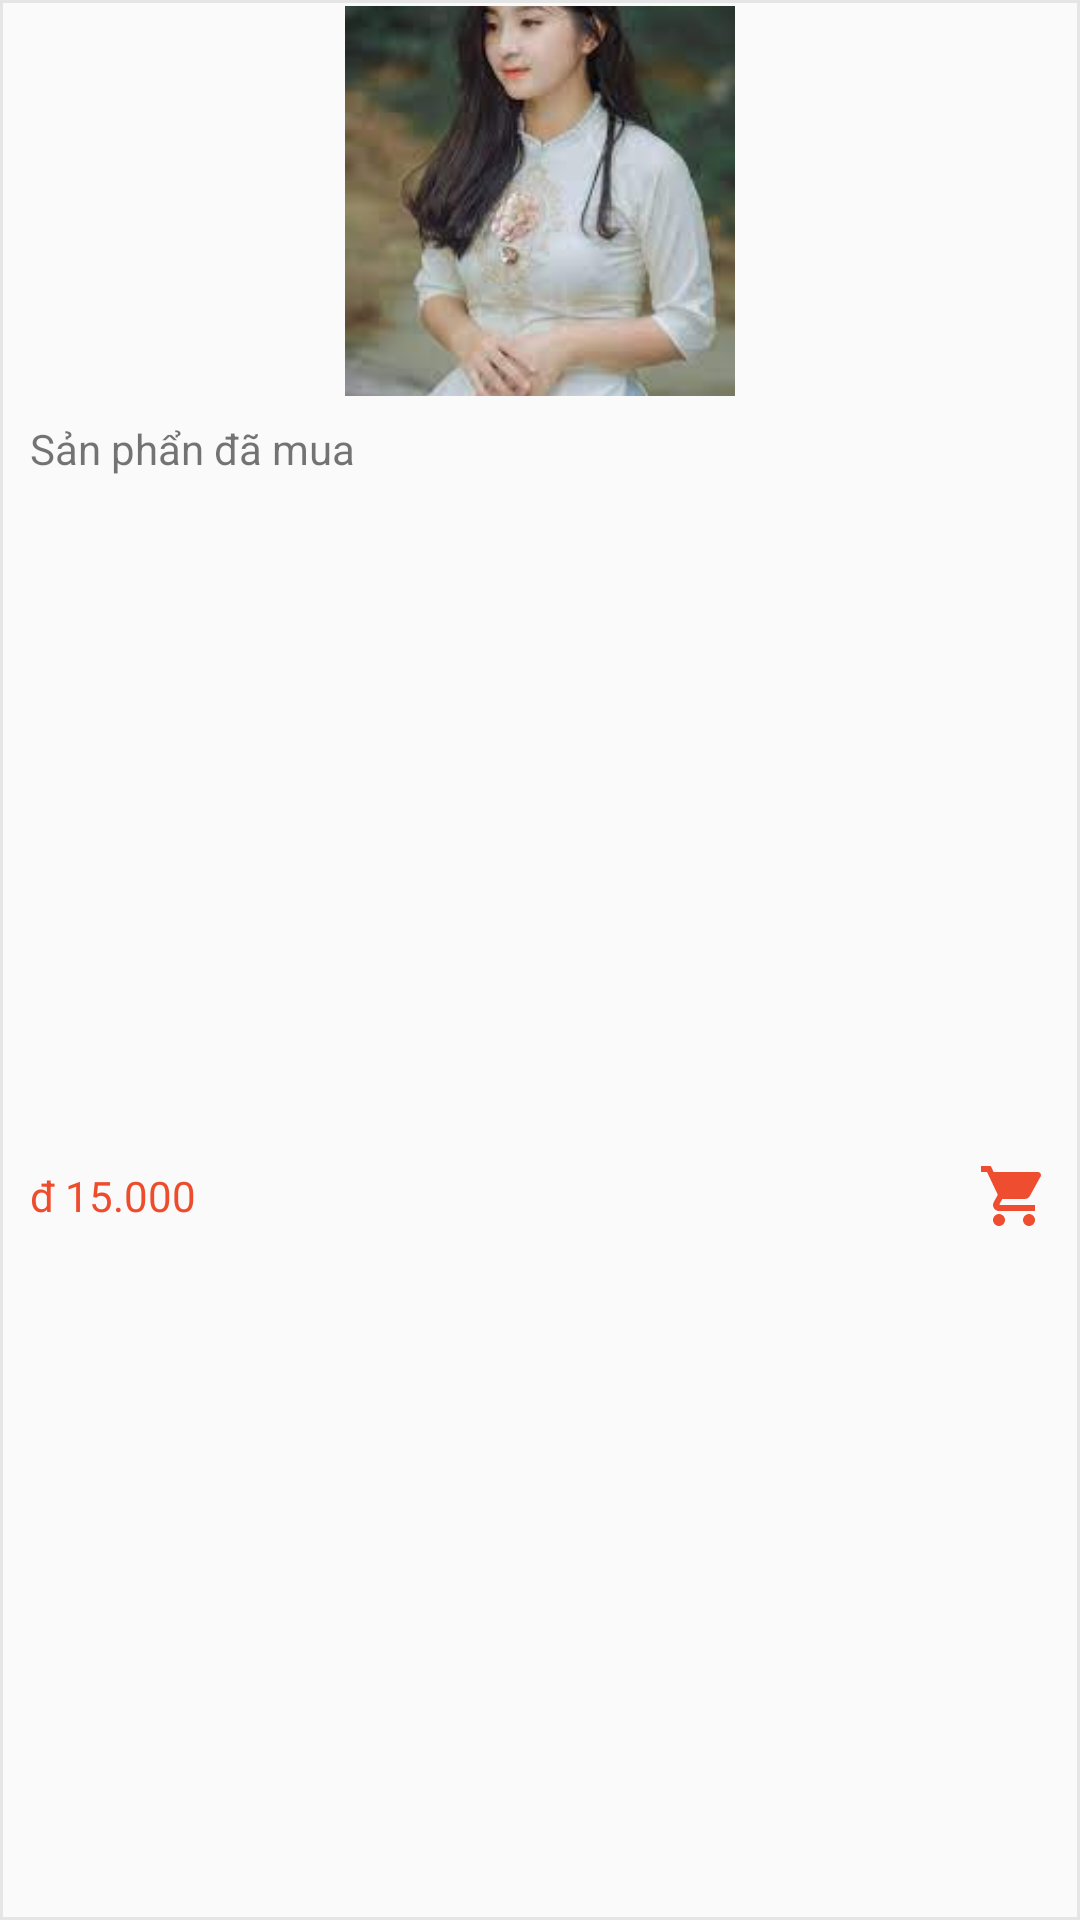

Icons on this 1080px x 1920px Android screen, each with its box as (x1, y1, x2, y2):
shopping cart origan: (981, 1166, 1041, 1226)
